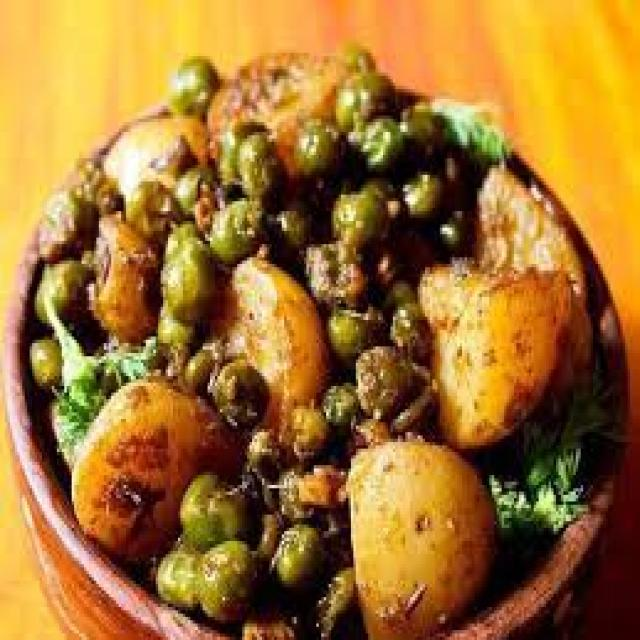aloo_matar: (18, 39, 614, 640)
